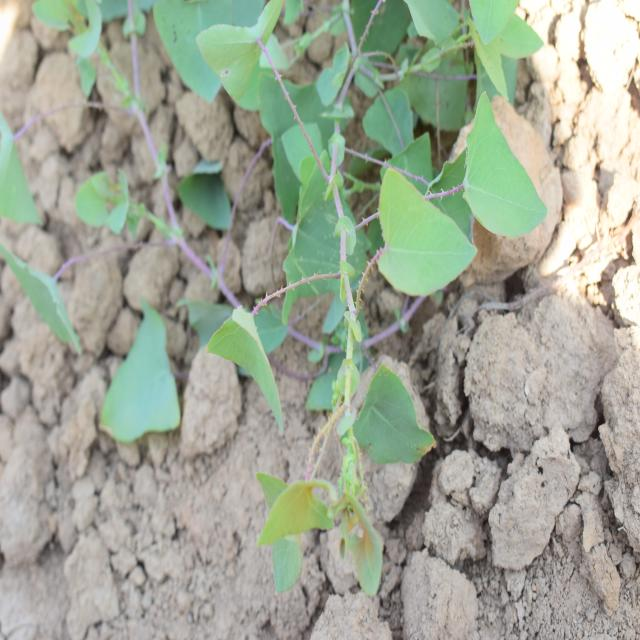Asiatic_Smartweed: (198, 220, 426, 572), (356, 80, 525, 304)
